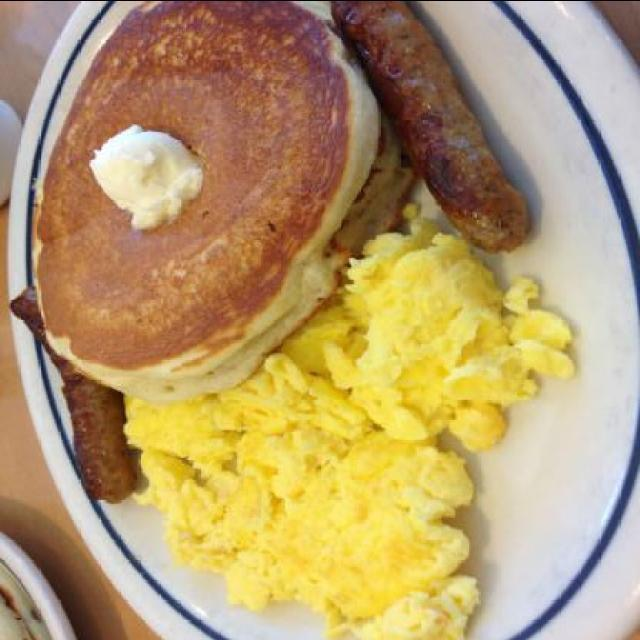Pancake: (73, 130, 401, 406), (350, 173, 414, 249)
